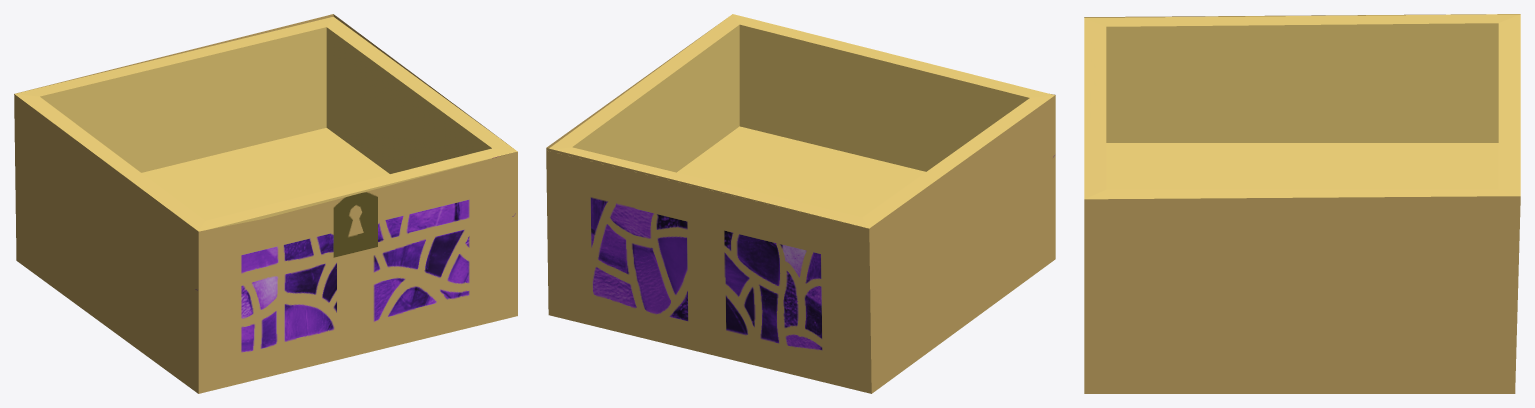
The model's file is chestBottom2.glb.
3 views of the same model, side by side, from view 1: azimuth 30°, elevation 25°; view 2: azimuth 150°, elevation 25°; view 3: azimuth 270°, elevation 25° (orthographic). The views are drawn at different scales.
Parts seen in each view (by area): view 1: Cube.003; view 2: Cube.003; view 3: Cube.003.
Part boxes in pixels (<box>): Cube.003: <box>14,14,517,393</box>; Cube.003: <box>546,14,1055,393</box>; Cube.003: <box>1084,14,1520,393</box>.
Size of the model in its own units: 1 by 0.5 by 1.
Materials: 3 (1 with a texture image).
